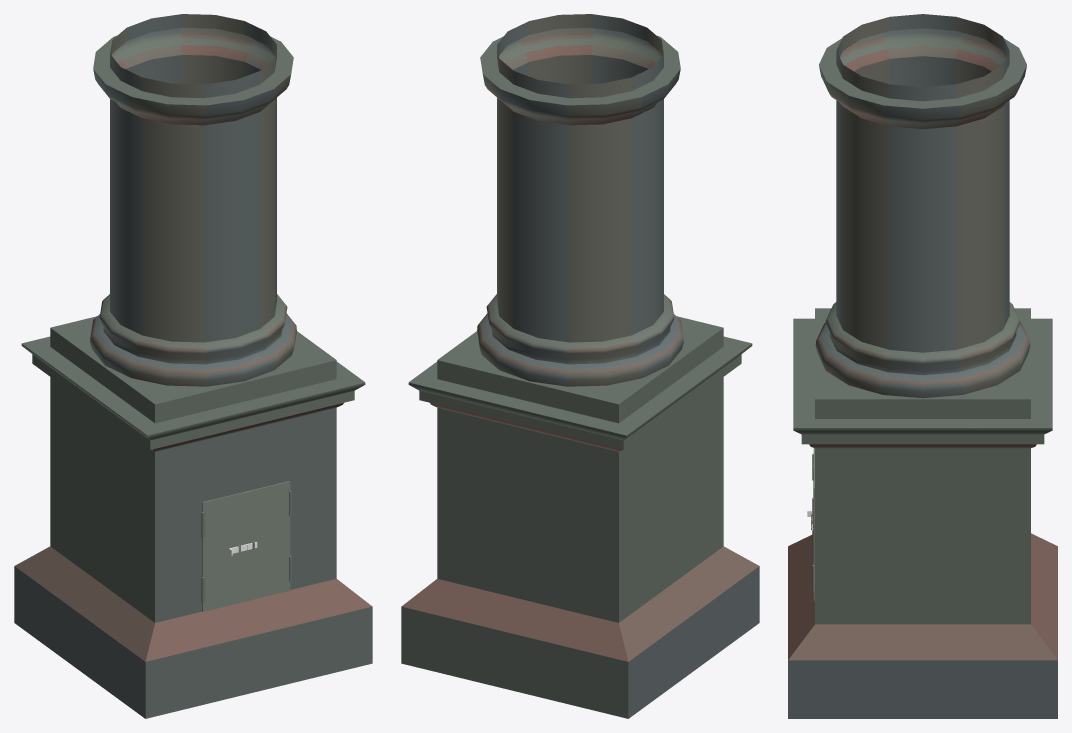
The model's file is kaakeliuuni.fbx.
The picture shows the model from 3 angles, left to right: view 1: azimuth 30°, elevation 25°; view 2: azimuth 150°, elevation 25°; view 3: azimuth 270°, elevation 25°; orthographic projection. The views are drawn at different scales.
Visible parts, largest first — view 1: kaakeliuuni1_ulko, ovi_oikea, ovi_vasen; view 2: kaakeliuuni1_ulko; view 3: kaakeliuuni1_ulko.
Part boxes in pixels (x1,y1,x2,y2): kaakeliuuni1_ulko: [14, 14, 372, 718]; ovi_oikea: [243, 481, 291, 602]; ovi_vasen: [201, 492, 244, 611]; kaakeliuuni1_ulko: [401, 14, 759, 718]; kaakeliuuni1_ulko: [788, 14, 1057, 718].
Bounding box in the file's own units: 100 × 250 × 100.
